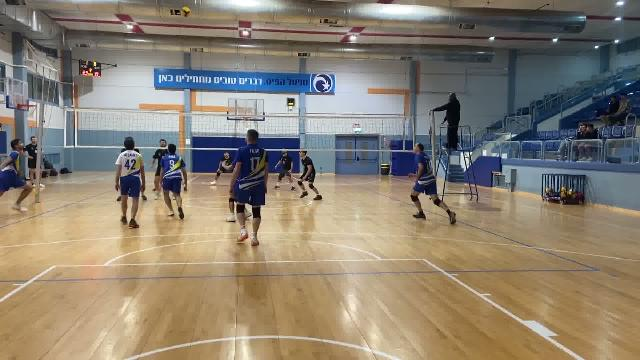ball: (179, 4, 194, 19)
